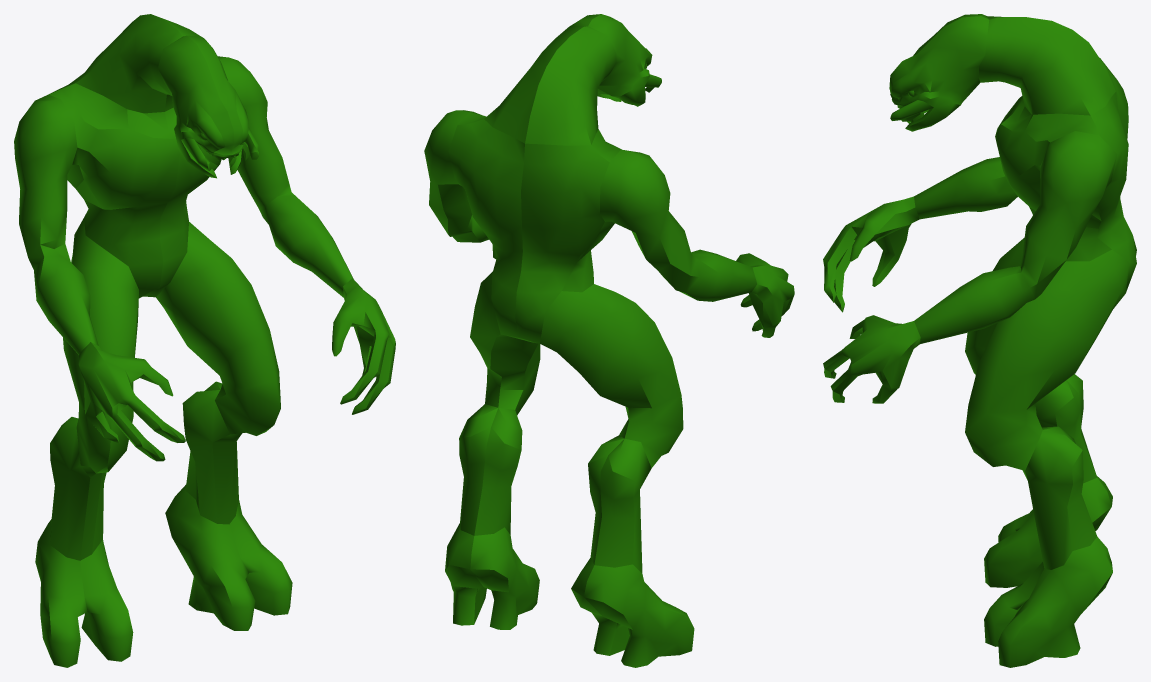
Rendered from enemigo alien.FBX.
The picture shows the model from 3 angles, left to right: view 1: azimuth 30°, elevation 25°; view 2: azimuth 150°, elevation 25°; view 3: azimuth 270°, elevation 25°; orthographic projection. The views are drawn at different scales.
Visible parts, largest first — view 1: mesh01, mesh04, mesh03; view 2: mesh01, mesh04; view 3: mesh01, mesh04, mesh03.
Part boxes in pixels (bbox=[...]): mesh01: bbox=[14, 56, 395, 667]; mesh04: bbox=[76, 14, 258, 178]; mesh03: bbox=[168, 145, 221, 201]; mesh01: bbox=[424, 110, 794, 667]; mesh04: bbox=[484, 14, 661, 145]; mesh01: bbox=[823, 57, 1136, 667]; mesh04: bbox=[889, 14, 1115, 131]; mesh03: bbox=[995, 124, 1101, 228].
Size of the model in its own units: 7.35 by 14.53 by 6.93.
